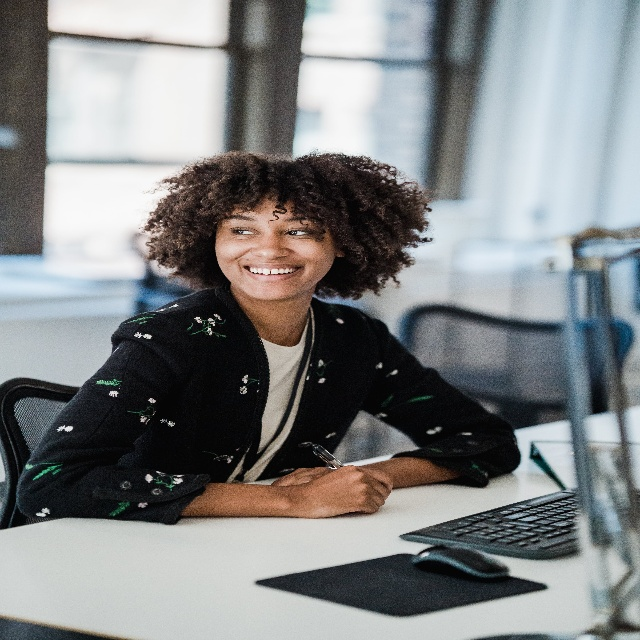Sin_guantes: (300, 470, 395, 513)
